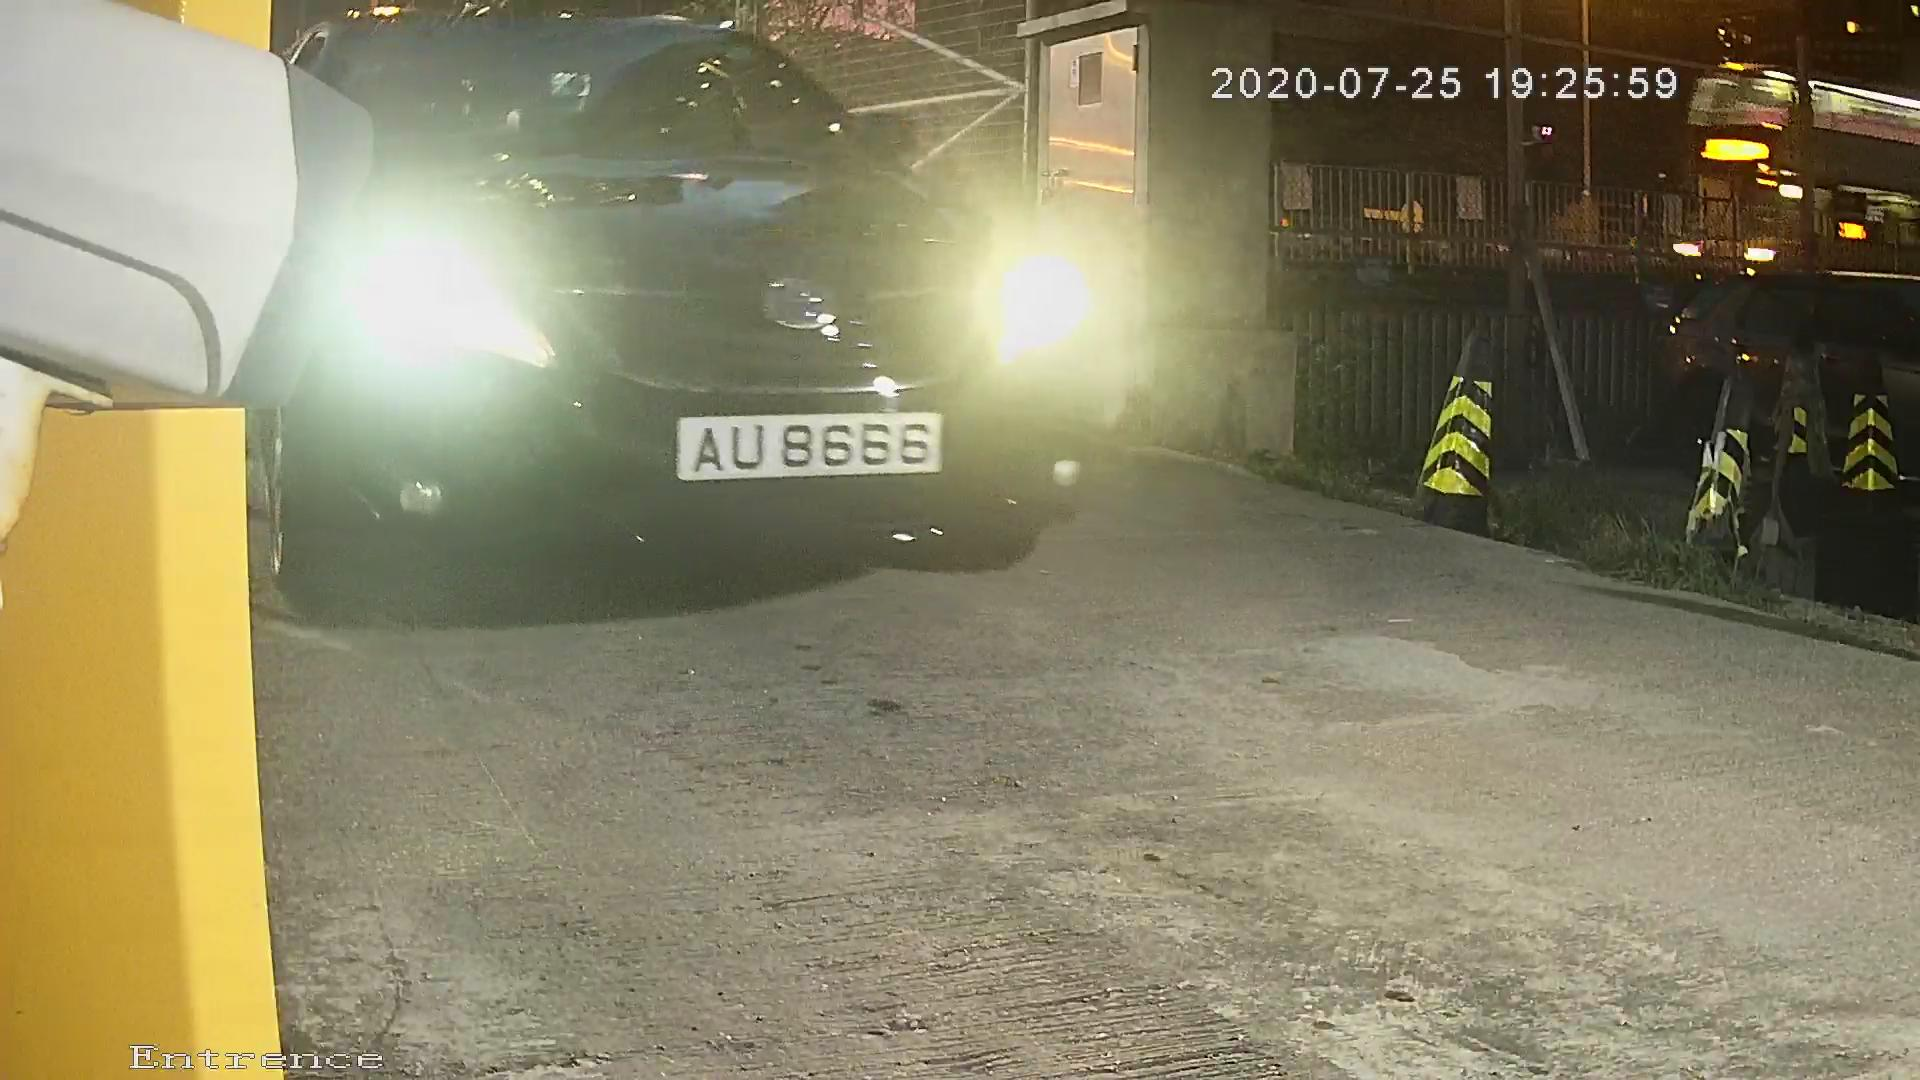License Plate: (643, 401, 952, 492)
